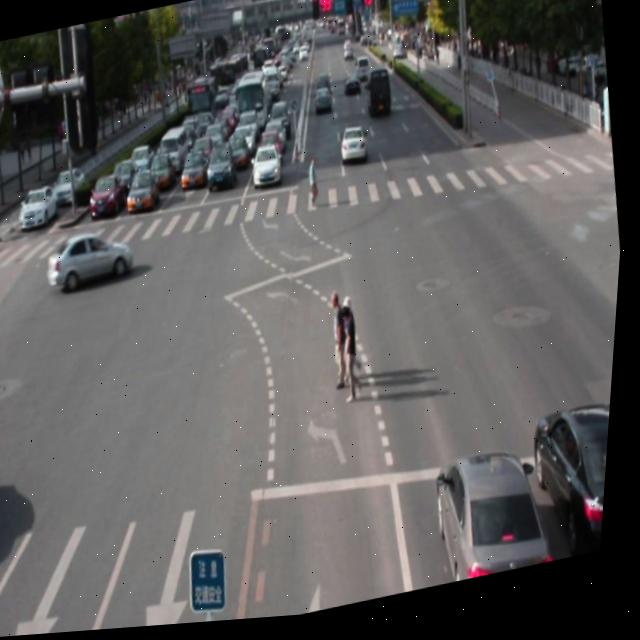car: (431, 451, 557, 594), (524, 409, 617, 575), (45, 223, 141, 297)
